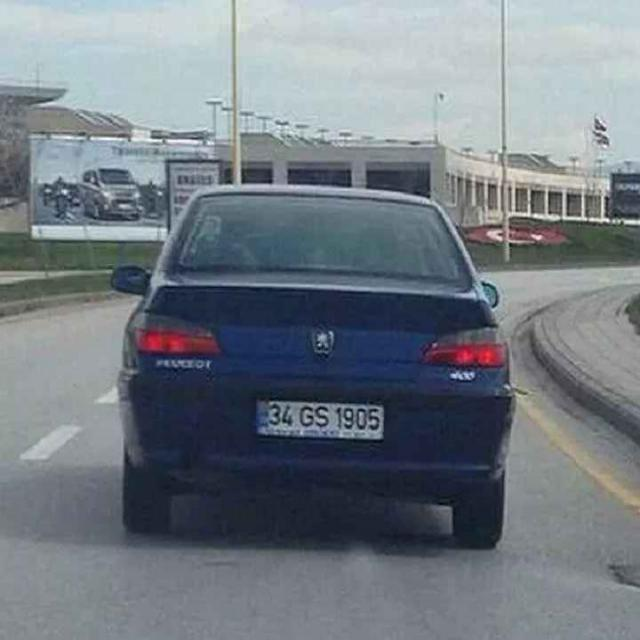plate: (251, 397, 388, 444)
